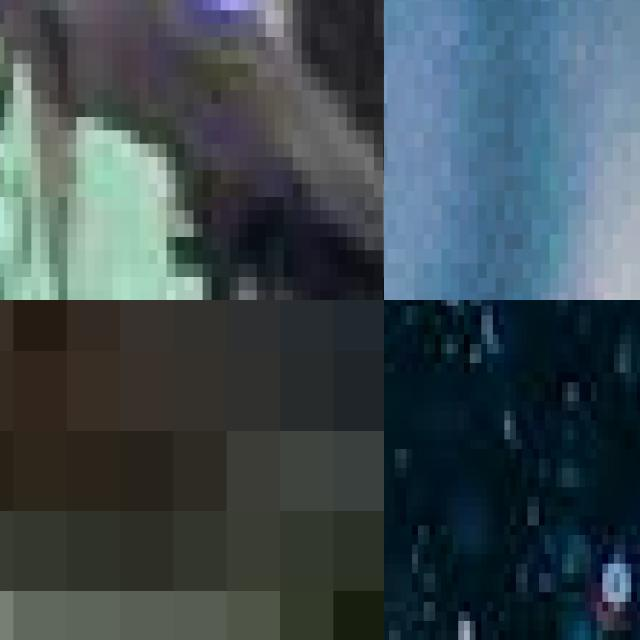fish: (0, 300, 384, 640), (0, 0, 384, 300), (527, 300, 640, 640)
